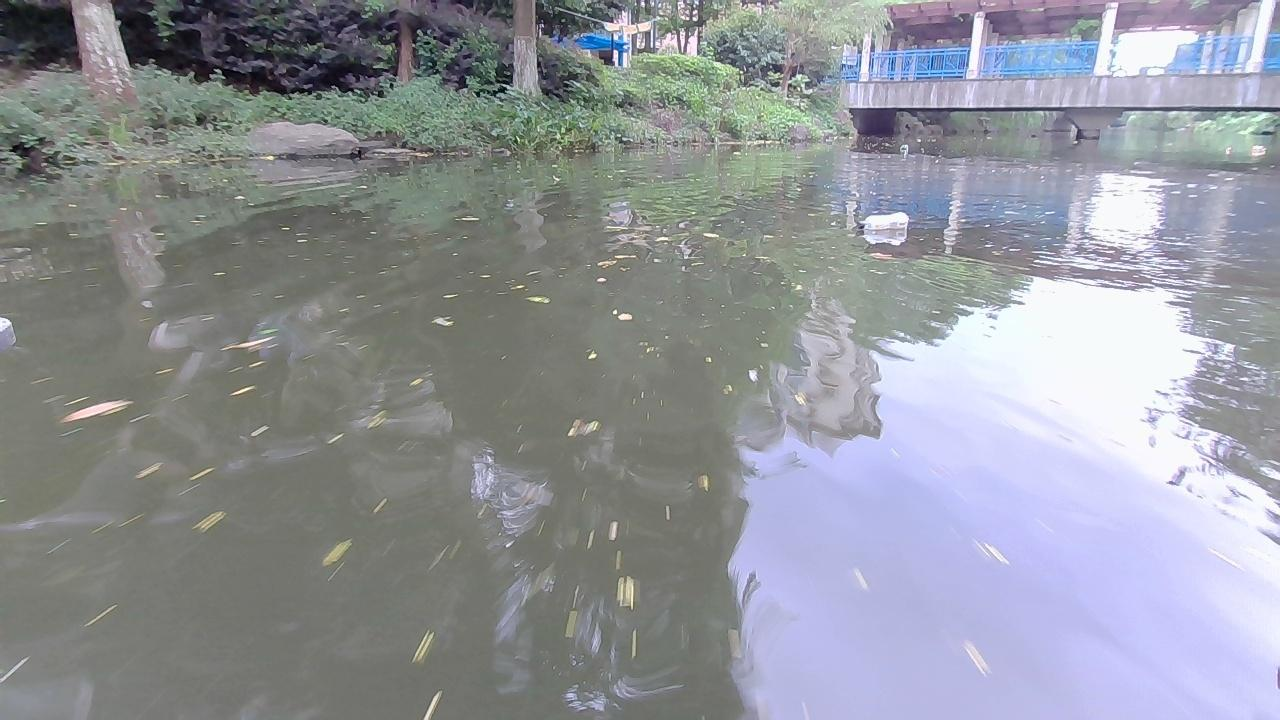bottle: (856, 209, 911, 227), (1249, 145, 1268, 156), (898, 145, 908, 152), (1223, 147, 1230, 154)
